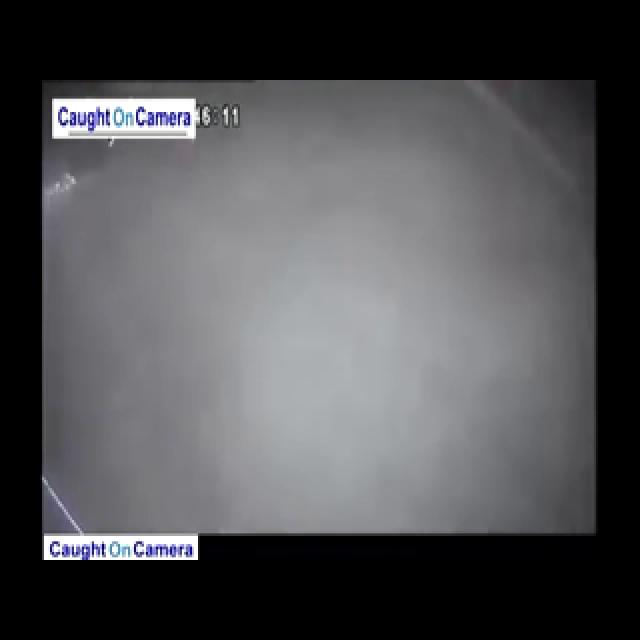explosion: (78, 54, 552, 548)
